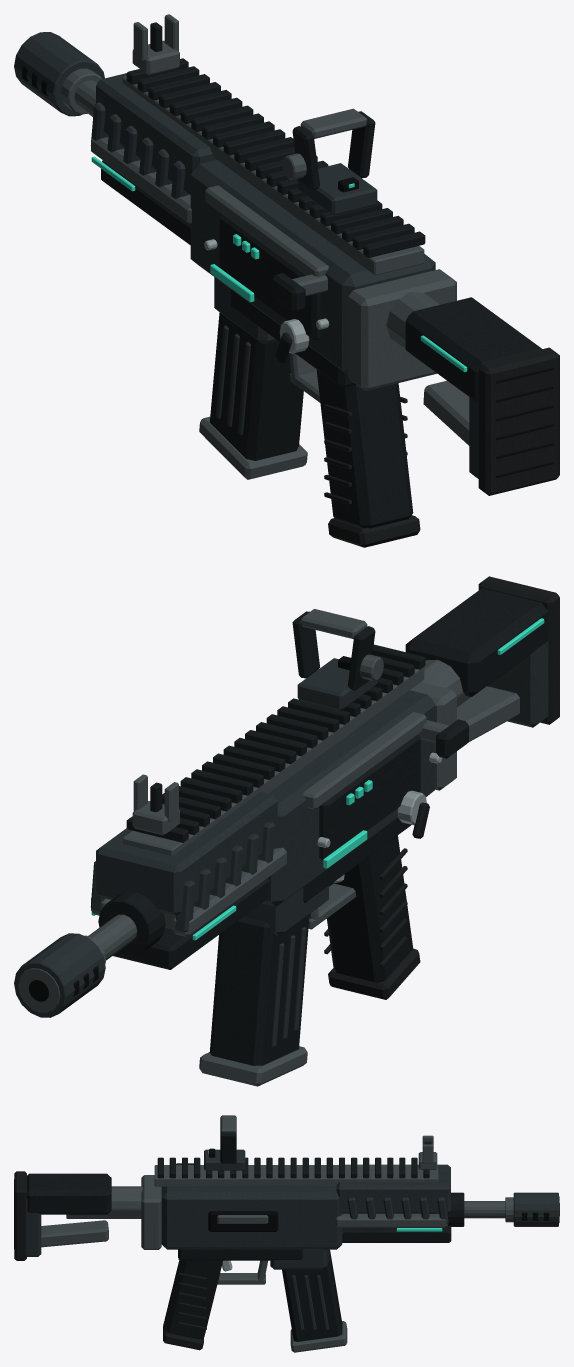
File: rifle_fp.glb
The picture shows the model from 3 angles, top to bottom: view 1: azimuth 30°, elevation 25°; view 2: azimuth 150°, elevation 25°; view 3: azimuth 270°, elevation 25°; orthographic projection. The views are drawn at different scales.
Parts seen in each view (by area): view 1: Rifle_FP; view 2: Rifle_FP; view 3: Rifle_FP.
Boxes of the visible parts, box(x1,y1,x2,y2) form: Rifle_FP: box(14, 14, 559, 547); Rifle_FP: box(14, 576, 559, 1086); Rifle_FP: box(14, 1115, 559, 1352).
Size of the model in its own units: 0.124 by 0.3159 by 0.7008.
1 material, 1 textured.
